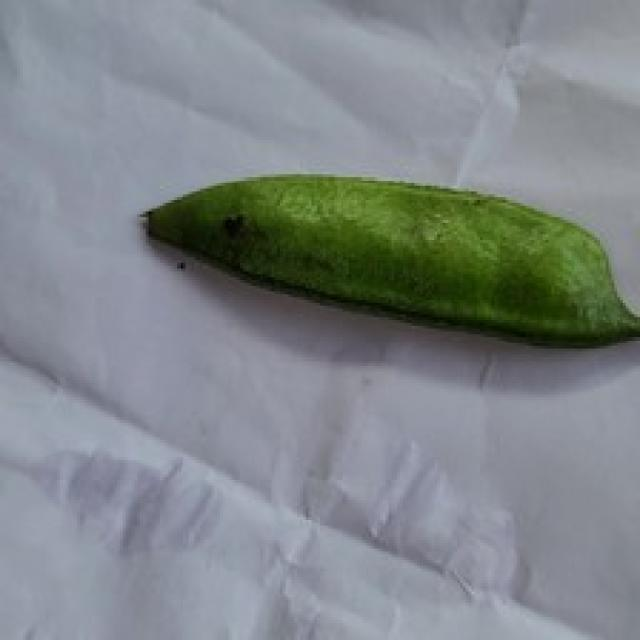Bean: (137, 168, 637, 348)
